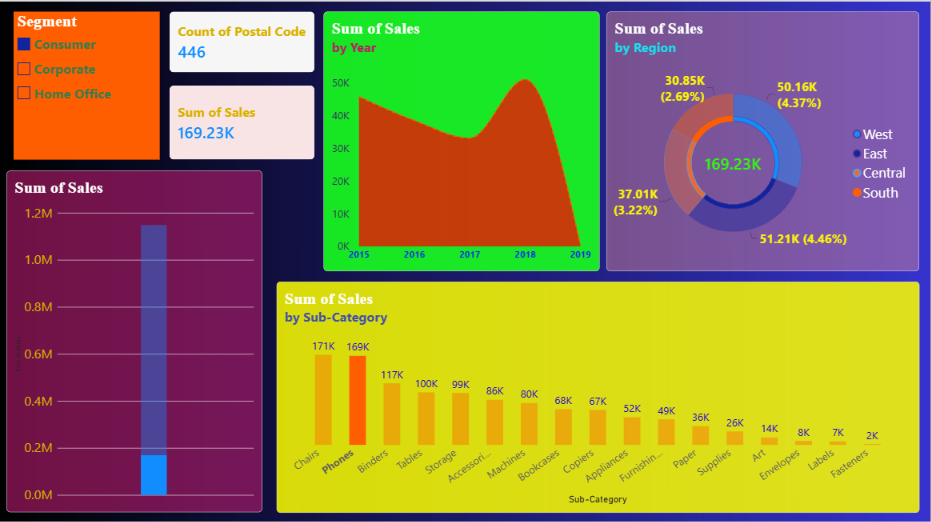

What the dashboard file says about the page in this screenshot:
{"tool":"powerbi","page":{"name":"Page 1","canvas":[1920,1080],"ordinal":0},"visuals":[{"type":"cardVisual","fields":{"Data":["Sum(train.Sales)"]},"box":[354,172.9,298.5,152.3],"z":0},{"type":"cardVisual","fields":{"Data":["CountNonNull(train.Postal Code)"]},"box":[354,20.6,298.5,125.6],"z":1},{"type":"clusteredColumnChart","fields":{"Y":["Sum(train.Sales)"]},"box":[18.8,348.6,526,703.5],"z":2},{"type":"donutChart","fields":{"Category":["train.Region"],"Y":["Sum(train.Sales)"]},"box":[1254.5,20.9,642.9,534.4],"z":3},{"type":"slicer","fields":{"Values":["train.Segment"]},"box":[32.9,20.6,300.5,304.6],"z":4},{"type":"clusteredColumnChart","fields":{"Category":["train.Sub-Category"],"Y":["Sum(train.Sales)"]},"box":[574,576.1,1323.4,475.9],"z":5},{"type":"stackedAreaChart","fields":{"Category":["train.Ship Date.Variation.Date Hierarchy.Year","train.Ship Date.Variation.Date Hierarchy.Quarter","train.Ship Date.Variation.Date Hierarchy.Month","train.Ship Date.Variation.Date Hierarchy.Day"],"Y":["Sum(train.Sales)"]},"box":[670.1,20.9,567.8,534.4],"z":6}]}

Visuals, with their boxes in screenshot pixels (x1, y1, x2, y2), scaled from the page's 1920x1080 canvas onto the 931x522 screenshot:
cardVisual - Sum(train.Sales): {"left": 172, "top": 84, "right": 316, "bottom": 157}
cardVisual - CountNonNull(train.Postal Code): {"left": 172, "top": 10, "right": 316, "bottom": 71}
clusteredColumnChart - Sum(train.Sales): {"left": 9, "top": 168, "right": 264, "bottom": 509}
donutChart - train.Region x Sum(train.Sales): {"left": 608, "top": 10, "right": 920, "bottom": 268}
slicer - train.Segment: {"left": 16, "top": 10, "right": 162, "bottom": 157}
clusteredColumnChart - train.Sub-Category x Sum(train.Sales): {"left": 278, "top": 278, "right": 920, "bottom": 508}
stackedAreaChart - train.Ship Date.Variation.Date Hierarchy.Year x train.Ship Date.Variation.Date Hierarchy.Quarter: {"left": 325, "top": 10, "right": 600, "bottom": 268}
